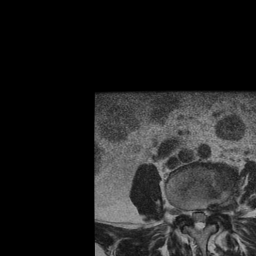CCS_normal: (195, 205, 202, 235)
LFS_normal: (208, 199, 217, 221)
LLS_normal: (202, 205, 207, 230)
RFS_stenosis: (182, 204, 190, 224)
RLS_normal: (190, 205, 196, 229)
